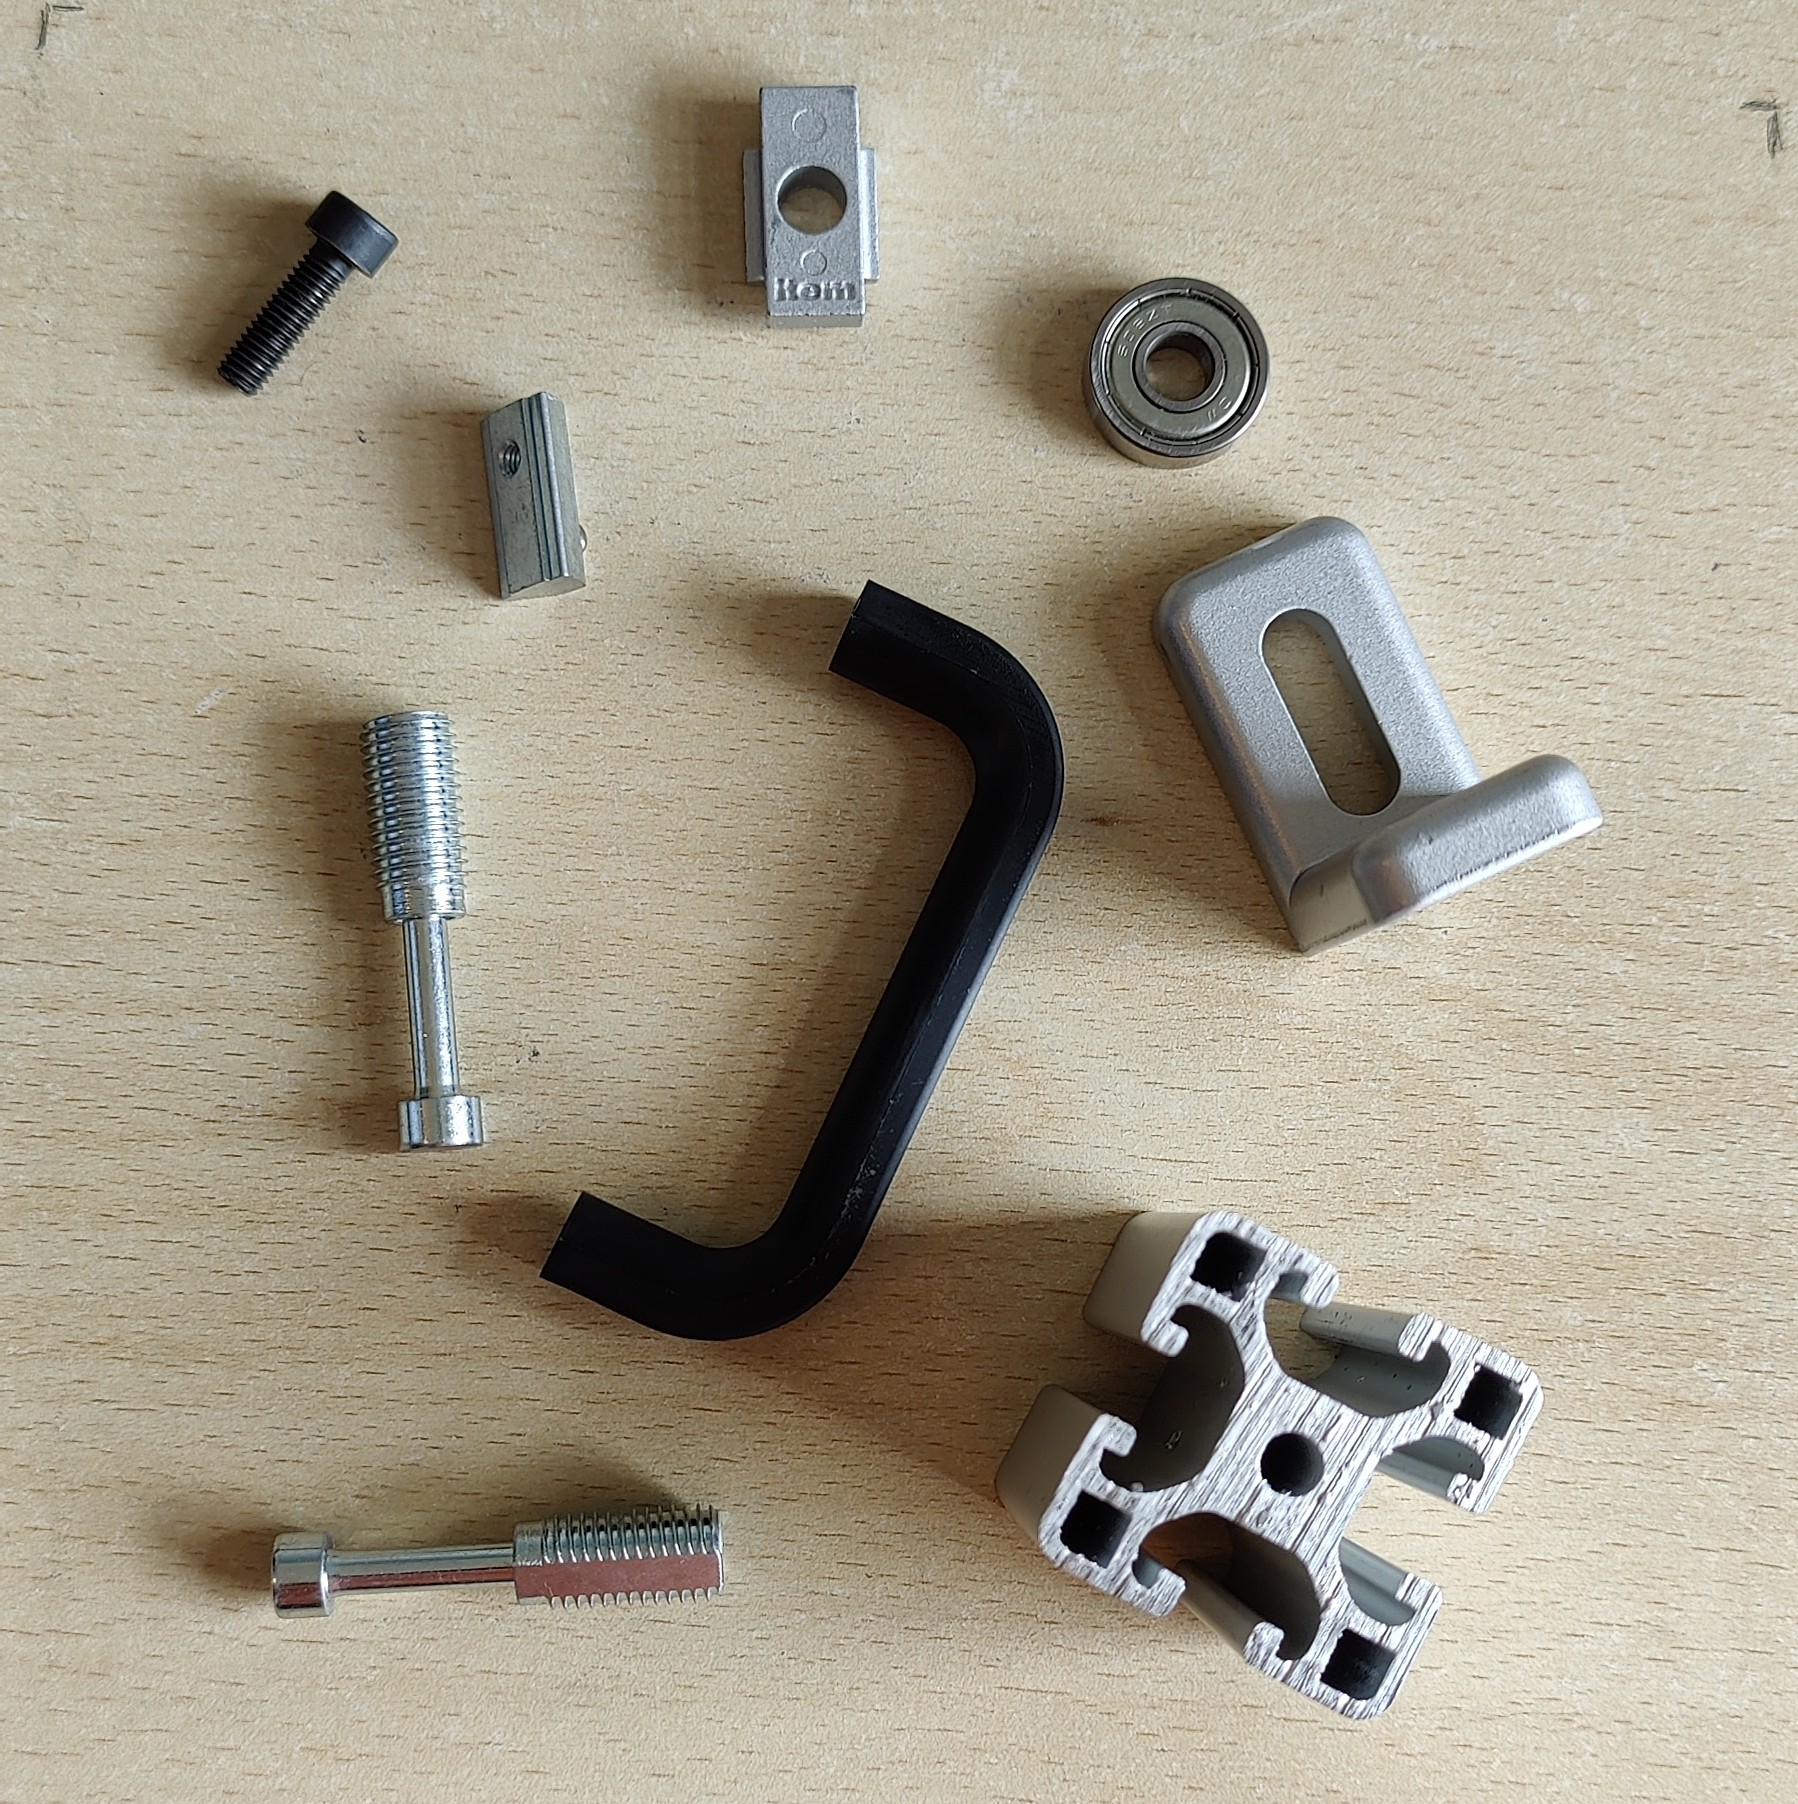Aluminium Extension: (991, 1208, 1548, 1722)
Ball Bearing: (1080, 273, 1274, 471)
Multiwinkel: (1148, 514, 1604, 960)
Pull Handle: (540, 578, 1065, 1345)
Shoulder Socket Head Cap Screw: (361, 713, 492, 1152), (270, 1499, 729, 1621)
Socket Head Cap Screw: (212, 184, 400, 398)
T Nut Square: (738, 81, 883, 332)
T Spring Nut: (476, 390, 589, 604)
